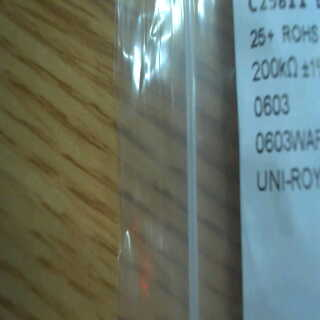200kR: (248, 53, 302, 85)
